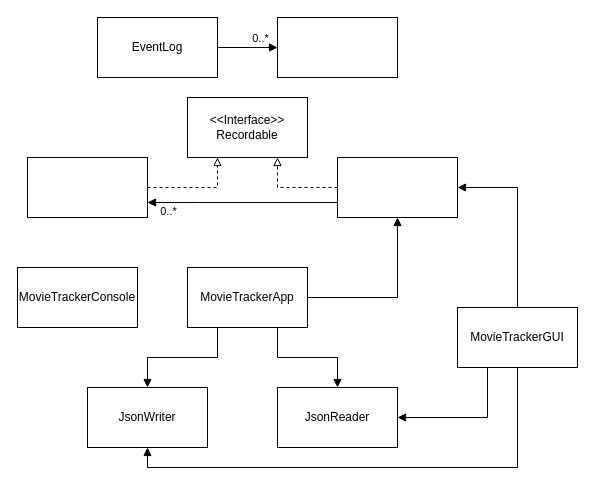
Some shapes in this 595 by 493 pixel diagram are drawn without their labels. The centre of each missing label's shape, as x and y in pixels:
Event: (337,47)
Movie: (87,187)
MovieTracker: (397,187)
